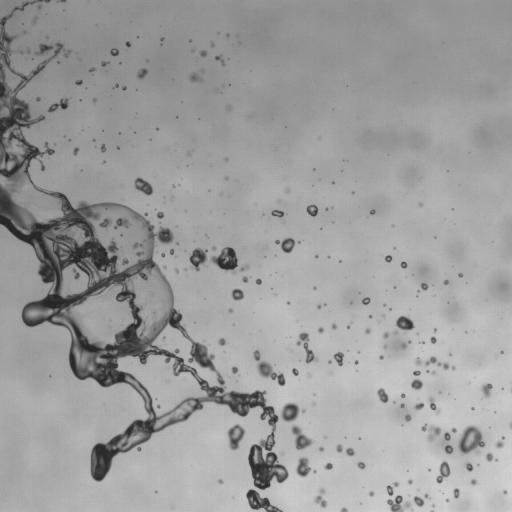droplet: (458, 425, 484, 455), (291, 425, 313, 449), (227, 424, 245, 450), (387, 495, 413, 511), (134, 177, 153, 195), (421, 424, 441, 441), (275, 238, 297, 253), (295, 457, 311, 477), (436, 461, 450, 483), (396, 315, 414, 331), (314, 488, 327, 507), (413, 494, 429, 506), (377, 388, 388, 403), (231, 288, 244, 300), (386, 482, 398, 495), (481, 383, 492, 397), (411, 378, 423, 390), (333, 352, 343, 365), (306, 205, 317, 216), (137, 68, 147, 78), (189, 73, 201, 81), (271, 210, 284, 217), (215, 55, 224, 65), (486, 452, 496, 461), (414, 402, 424, 410), (444, 445, 453, 453), (465, 462, 473, 471), (362, 297, 370, 305), (346, 448, 354, 456), (453, 488, 459, 498), (110, 48, 118, 55), (156, 211, 164, 218), (420, 283, 428, 290), (231, 366, 238, 374), (324, 462, 332, 469), (357, 462, 365, 469), (400, 261, 407, 268), (218, 338, 225, 345), (404, 414, 411, 421), (444, 432, 450, 440), (336, 444, 342, 452), (385, 255, 391, 262), (430, 336, 436, 343), (292, 368, 298, 375), (413, 370, 420, 376), (200, 50, 206, 56), (242, 276, 248, 282), (470, 479, 476, 485), (75, 80, 82, 85), (73, 147, 78, 154), (101, 144, 105, 152), (340, 507, 348, 511), (101, 61, 107, 66), (331, 323, 336, 329), (318, 327, 323, 333), (383, 332, 388, 338), (125, 41, 130, 46), (90, 67, 95, 72), (256, 279, 261, 284), (365, 328, 370, 333), (369, 491, 374, 496), (32, 17, 36, 23), (318, 447, 324, 451), (370, 209, 374, 214), (170, 249, 174, 254), (317, 304, 322, 308), (451, 428, 456, 432), (218, 479, 223, 483), (408, 479, 412, 484), (122, 86, 126, 90), (36, 97, 40, 101), (285, 188, 289, 192), (212, 246, 216, 250), (161, 253, 165, 257), (458, 273, 462, 277), (444, 280, 448, 284), (379, 355, 383, 359), (401, 393, 405, 397), (400, 403, 404, 407), (503, 490, 507, 494), (445, 498, 449, 502), (160, 37, 163, 41), (19, 50, 23, 53), (114, 84, 118, 87), (175, 268, 178, 272), (229, 308, 232, 312), (355, 360, 358, 364), (431, 371, 435, 374), (211, 43, 214, 46), (93, 98, 96, 101), (227, 106, 230, 109), (419, 203, 422, 206), (163, 265, 166, 268), (347, 325, 350, 328), (226, 34, 229, 36), (116, 146, 119, 148), (225, 177, 228, 179), (315, 255, 318, 257), (287, 301, 289, 304), (369, 315, 372, 317), (384, 345, 386, 348), (500, 351, 503, 353), (307, 374, 310, 376), (157, 405, 159, 408), (471, 407, 474, 409), (27, 49, 29, 51), (225, 158, 227, 160), (103, 161, 105, 163), (126, 239, 128, 241), (434, 329, 436, 331), (163, 337, 165, 339), (427, 370, 429, 372)
ligament: (0, 0, 305, 511), (189, 247, 249, 274), (253, 350, 285, 385), (296, 332, 318, 363), (414, 356, 455, 369), (48, 98, 68, 112), (427, 397, 440, 414), (495, 436, 504, 448), (401, 341, 410, 349), (57, 0, 66, 2), (509, 422, 511, 428), (510, 388, 511, 391)
